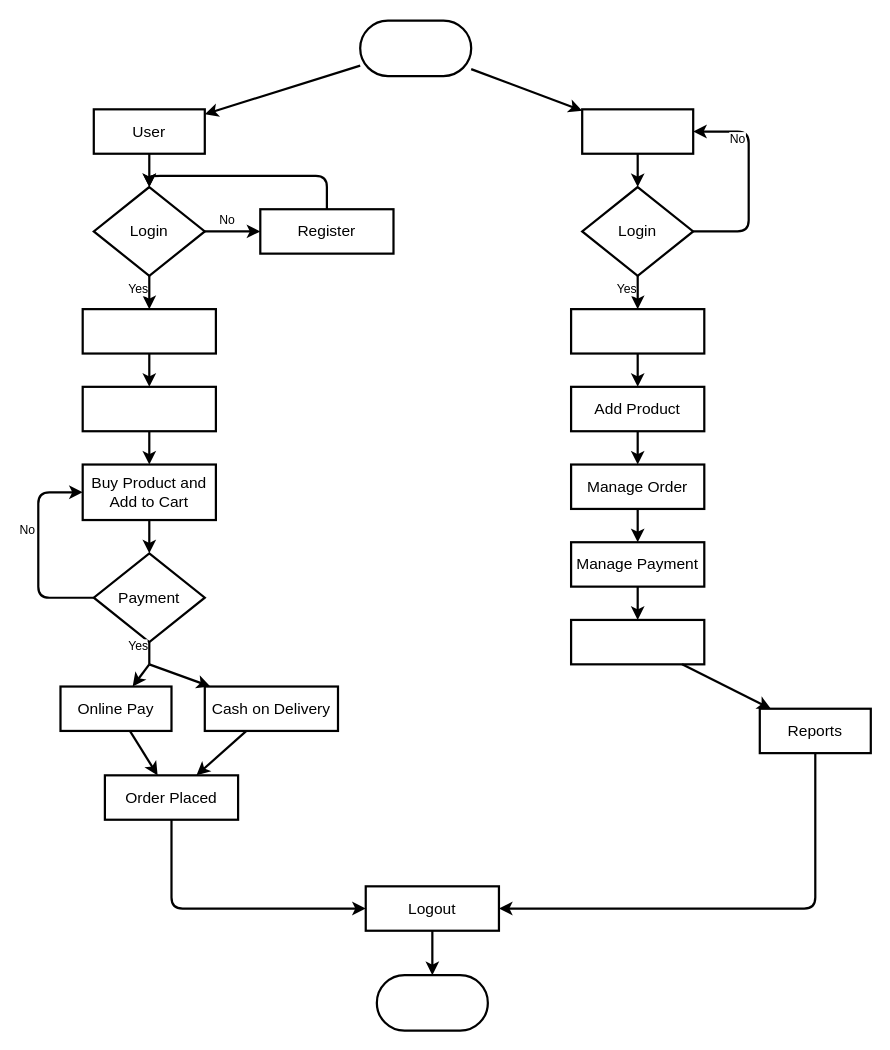
The diagram is 890 pixels wide and 1050 high, and some of its shapes have lost their labels. The shapes that lost their labels are listed below. From the top down, each one's centre as x and y in pixels, then its label:
At [415,48]: "Start".
At [637,131]: "Admin".
At [148,330]: "Search Product".
At [637,330]: "Add Category".
At [148,408]: "View Product".
At [637,641]: "Check Feedback".
At [431,1002]: "Stop".
